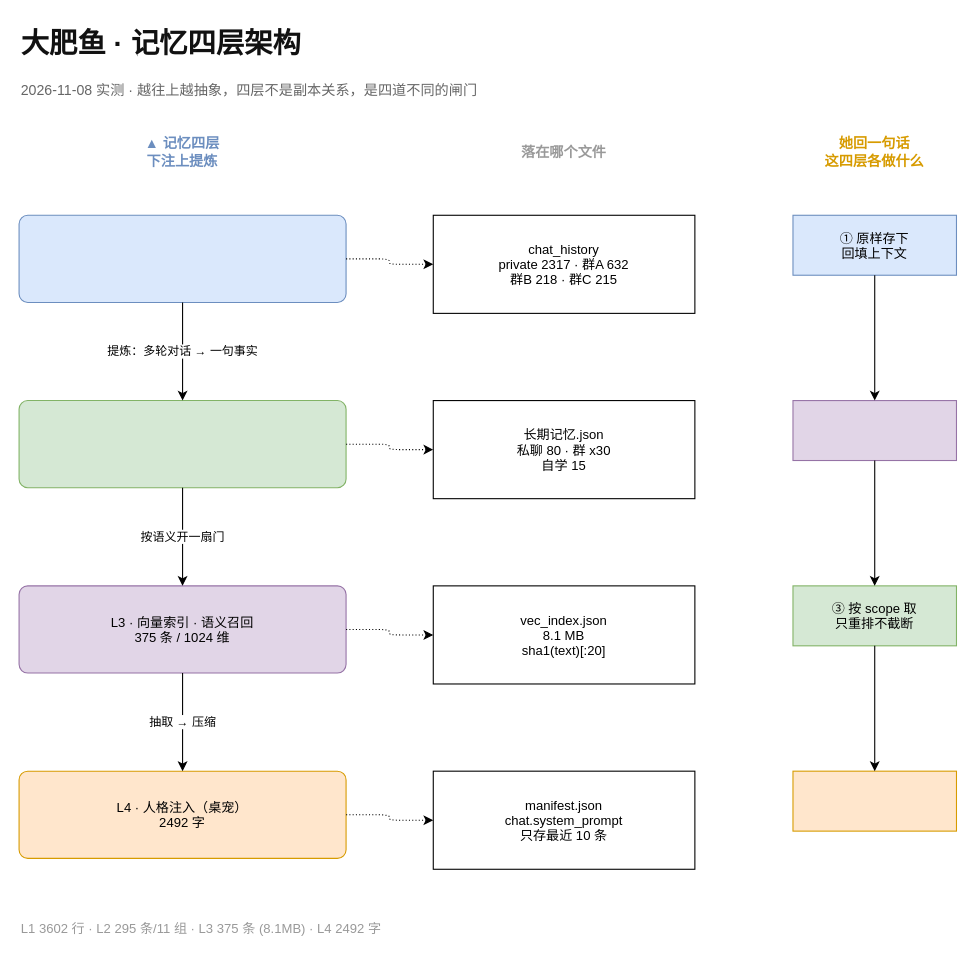
Some shapes in this 976 by 964 pixel diagram are drawn without their labels. The shapes that lost their labels are listed below. From the top down, each one's box as (x1, y1, x2, y2) in pixels, then its label:
(18, 214, 346, 302): L1 · 原始对话 · 共享库 3602 行
(18, 399, 346, 488): L2 · 长期档案 · 分 scope 295 条 / 11 组
(792, 399, 956, 461): ② 语义找相近 跨字面捞旧记忆
(792, 770, 956, 831): ④ 压缩 2.5k 字 塞进桌宠
